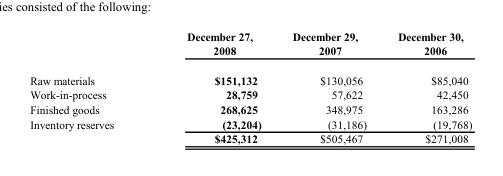table: (29, 29, 471, 144)
table column: (149, 29, 276, 144), (29, 29, 149, 144), (276, 29, 381, 144), (381, 29, 471, 144)
table column header: (29, 29, 471, 65)
table row: (29, 29, 471, 65), (29, 65, 471, 87), (29, 101, 471, 116), (29, 116, 471, 131), (29, 87, 471, 101), (29, 131, 471, 144)
